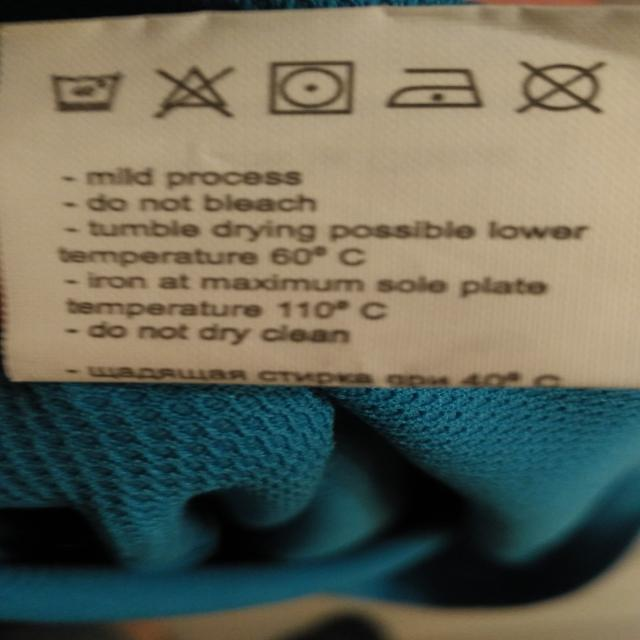40C: (46, 69, 128, 115)
DN_bleach: (148, 61, 243, 126)
DN_dry_clean: (509, 54, 614, 123)
iron_low: (383, 65, 486, 119)
tumble_dry_low: (264, 56, 367, 125)
